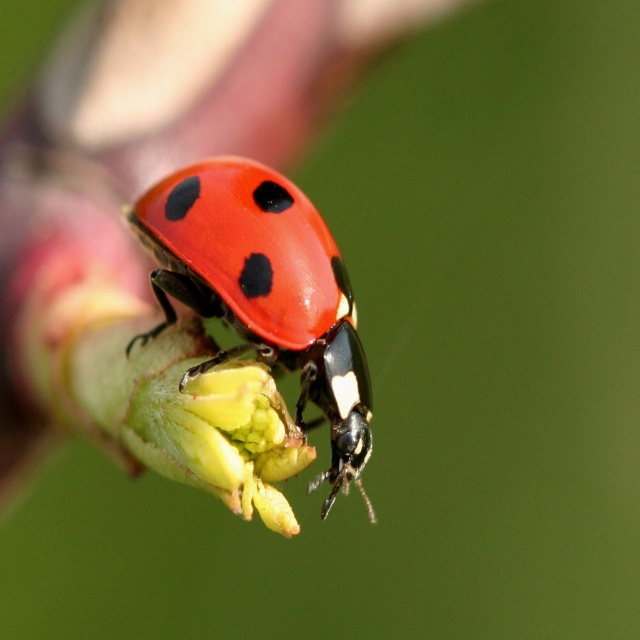Ladybug: (123, 155, 376, 526)
